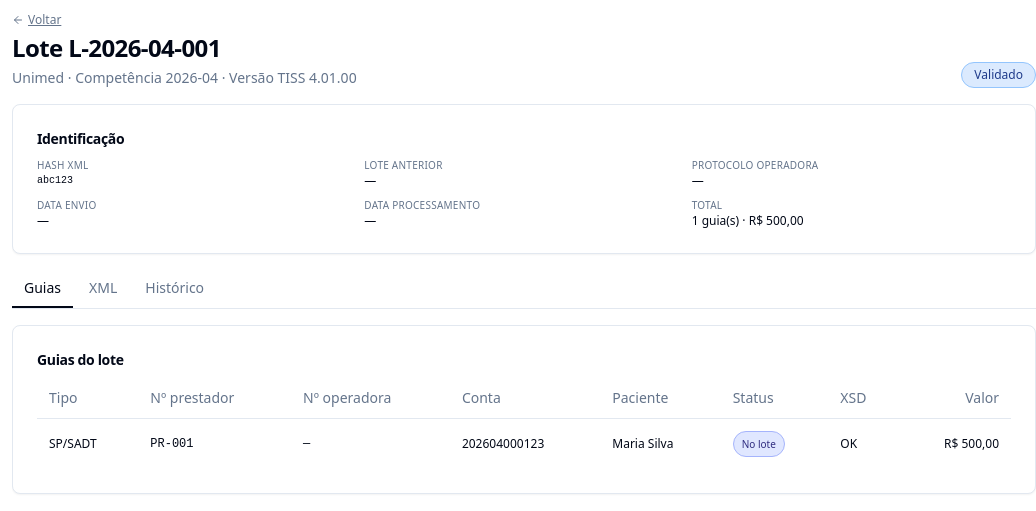
Test case: <LoteTissDetalhePage /> › alterna para tab "XML" e exibe preview
This screenshot has width=1036, height=511.
Expected: the heading "Lote L-2026-04-001" is shown, x1=12 y1=31 x2=221 y2=64
Click the tab "XML": (103, 289) x1=77 y1=270 x2=129 y2=308
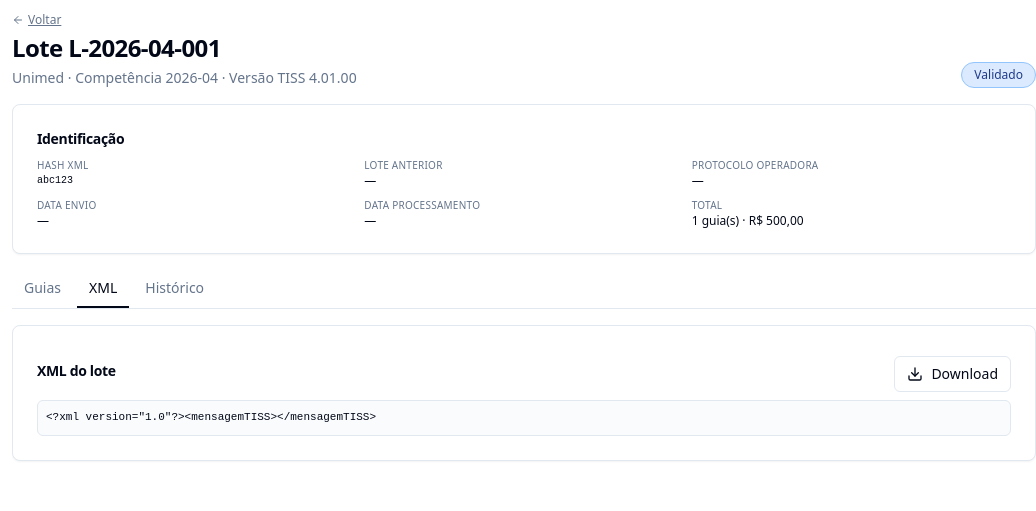
Expected: the text "<?xml version=\"1.0\"?><mensagemTISS></mensagemTISS>" is shown, x1=37 y1=400 x2=1011 y2=436
